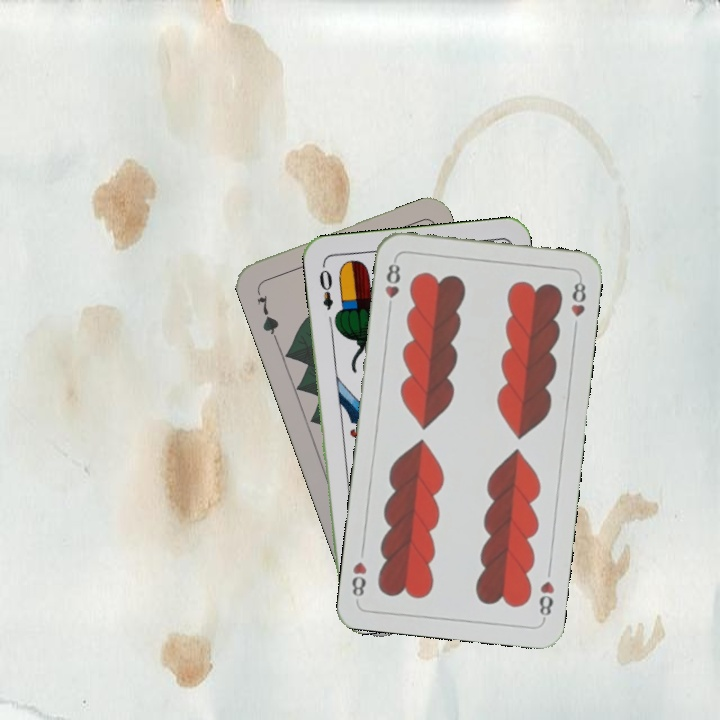EO: (315, 260, 336, 313)
G7: (252, 284, 282, 341)
H8: (381, 255, 403, 314), (535, 577, 557, 623)
